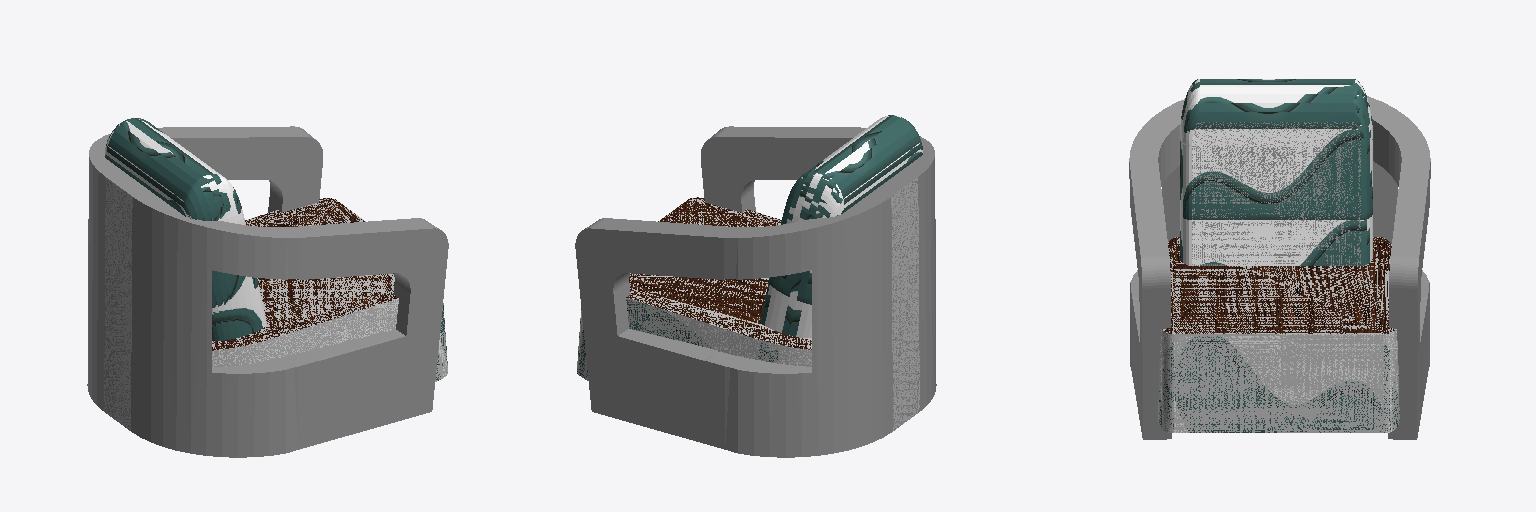
The picture shows the model from 3 angles: view 1: azimuth 30°, elevation 25°; view 2: azimuth 150°, elevation 25°; view 3: azimuth 270°, elevation 25°; orthographic projection.
Visible parts, largest first — view 1: mesh4_mesh4-geometry, mesh1_mesh1-geometry, mesh2_mesh2-geometry; view 2: mesh4_mesh4-geometry, mesh1_mesh1-geometry, mesh2_mesh2-geometry; view 3: mesh1_mesh1-geometry, mesh2_mesh2-geometry, mesh4_mesh4-geometry.
Boxes of the visible parts, x1=… form: mesh4_mesh4-geometry: x1=87, y1=126, x2=448, y2=457; mesh1_mesh1-geometry: x1=212, y1=198, x2=447, y2=381; mesh2_mesh2-geometry: x1=105, y1=118, x2=266, y2=340; mesh4_mesh4-geometry: x1=575, y1=126, x2=936, y2=457; mesh1_mesh1-geometry: x1=577, y1=197, x2=811, y2=380; mesh2_mesh2-geometry: x1=760, y1=115, x2=922, y2=337; mesh1_mesh1-geometry: x1=1158, y1=237, x2=1399, y2=432; mesh2_mesh2-geometry: x1=1180, y1=79, x2=1372, y2=265; mesh4_mesh4-geometry: x1=1129, y1=96, x2=1430, y2=439.
Size of the model in its own units: 0.6066 by 0.5523 by 0.5718.
19 materials, 2 textured.